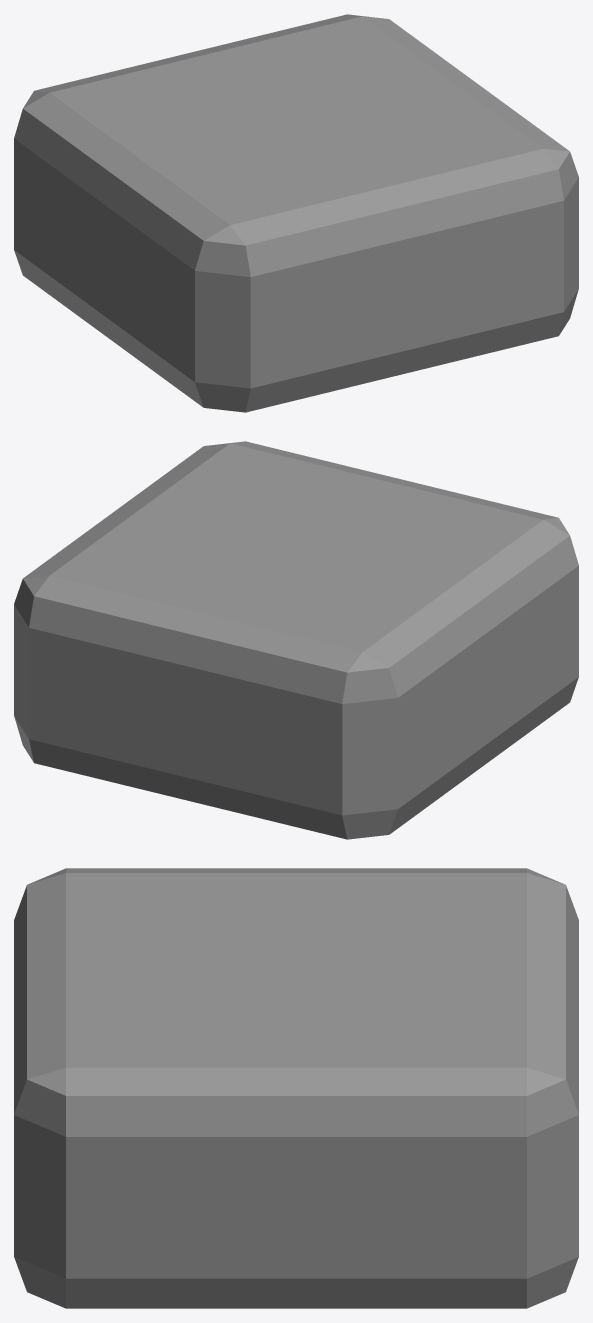
The picture shows the model from 3 angles, top to bottom: view 1: azimuth 30°, elevation 25°; view 2: azimuth 150°, elevation 25°; view 3: azimuth 270°, elevation 25°; orthographic projection. The views are drawn at different scales.
Visible parts, largest first — view 1: OBJ_1; view 2: OBJ_1; view 3: OBJ_1.
Boxes of the visible parts, x1,y1,x2,y2 form: OBJ_1: [14, 14, 578, 412]; OBJ_1: [14, 441, 578, 839]; OBJ_1: [14, 868, 578, 1308].
Size of the model in its own units: 0.65 by 0.3 by 0.65.
Materials: 1 (1 with a texture image).
